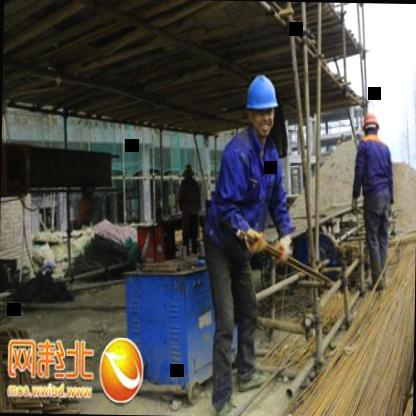helmet: (244, 70, 280, 140), (360, 109, 380, 141)
